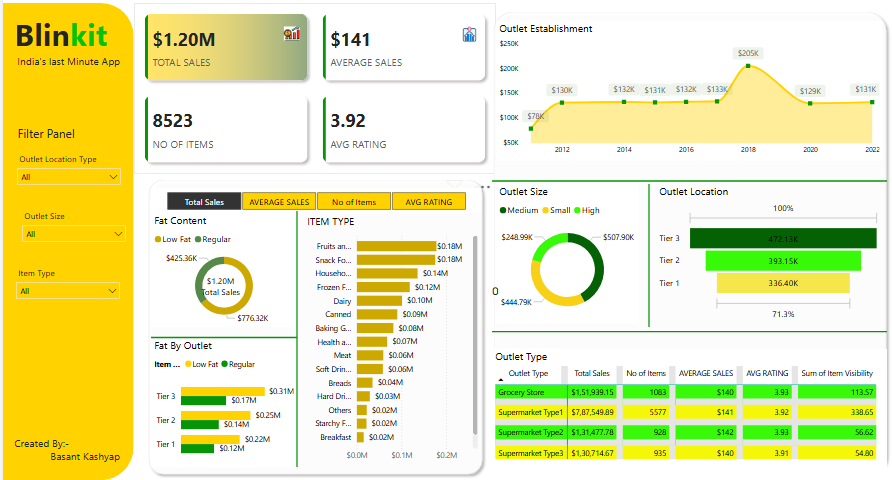

Layout of this report page (visuals, bound fields, positions):
{"tool":"powerbi","page":{"name":"Page 1","canvas":[1400,800],"ordinal":0},"visuals":[{"type":"shape","box":[0,23.9,205.8,751.4],"z":0},{"type":"textbox","box":[0,34.6,195.3,89.8],"z":1000},{"type":"textbox","box":[0,99.2,204.7,70.9],"z":2000},{"type":"cardVisual","fields":{"Data":["BlinkIT Grocery Data.Total Sales","BlinkIT Grocery Data.Average Sales","BlinkIT Grocery Data.No of Items","BlinkIT Grocery Data.Avg Rating"]},"box":[206.3,23.6,570.1,269.3],"z":3000},{"type":"shape","box":[220.5,292.9,543.3,481.9],"z":4000},{"type":"donutChart","title":"Fat Content","fields":{"Y":["BlinkIT Grocery Data.Total Sales"],"Category":["BlinkIT Grocery Data.Item Fat Content"]},"box":[233.1,354.3,229.9,179.5],"z":5000},{"type":"slicer","fields":{"Values":["Metrics.Metrics"]},"box":[233.1,315,519.7,39.4],"z":6000},{"type":"cardVisual","fields":{"Data":["BlinkIT Grocery Data.Total Sales"]},"box":[270.9,428.3,144.9,81.9],"z":7000},{"type":"clusteredBarChart","title":"Fat By Outlet","fields":{"Y":["BlinkIT Grocery Data.Total Sales"],"Category":["BlinkIT Grocery Data.Outlet Location Type"],"Series":["BlinkIT Grocery Data.Item Fat Content"]},"box":[233.1,551.2,229.9,203.1],"z":8000},{"type":"shape","box":[233.1,488.2,229.9,124.4],"z":9000},{"type":"shape","box":[411,351.2,103.9,403.1],"z":10000},{"type":"barChart","title":"ITEM TYPE","fields":{"Y":["BlinkIT Grocery Data.Total Sales"],"Category":["BlinkIT Grocery Data.Item Type"]},"box":[474,355.9,278.7,398.4],"z":11000},{"type":"shape","box":[763.8,28.3,636.2,746.5],"z":12000},{"type":"lineChart","title":"Outlet Establishment","fields":{"Y":["BlinkIT Grocery Data.Total Sales"],"Category":["BlinkIT Grocery Data.Outlet Establishment Year"]},"box":[776.4,52,609.4,220.5],"z":13000},{"type":"shape","box":[770.1,242.5,622,122.8],"z":14000},{"type":"donutChart","title":"Outlet Size","fields":{"Category":["BlinkIT Grocery Data.Outlet Size"],"Y":["BlinkIT Grocery Data.Total Sales"]},"box":[776.4,308.7,225,220],"z":15000},{"type":"shape","box":[902.4,308.7,229.9,225.2],"z":16000},{"type":"funnel","title":"Outlet Location","fields":{"Y":["Sum(BlinkIT Grocery Data.Sales)"],"Category":["BlinkIT Grocery Data.Outlet Location Type"]},"box":[1028.3,308.7,357.5,220.5],"z":17000},{"type":"shape","title":"O","box":[770.1,467.7,622,122.8],"z":18000},{"type":"pivotTable","title":"Outlet Type","fields":{"Rows":["BlinkIT Grocery Data.Outlet Type"],"Values":["BlinkIT Grocery Data.Total Sales","BlinkIT Grocery Data.No of Items","BlinkIT Grocery Data.AVERAGE SALES","BlinkIT Grocery Data.AVG RATING","Sum(BlinkIT Grocery Data.Item Visibility)"]},"box":[770.1,568.5,622,206.3],"z":19000},{"type":"slicer","fields":{"Values":["BlinkIT Grocery Data.Outlet Location Type"]},"box":[12.6,255.1,182.7,75.6],"z":20000},{"type":"slicer","fields":{"Values":["BlinkIT Grocery Data.Outlet Size"]},"box":[11,335.4,182.7,75.6],"z":21000},{"type":"slicer","fields":{"Values":["BlinkIT Grocery Data.Item Type"]},"box":[11,434.6,182.7,75.6],"z":22000},{"type":"textbox","box":[12.6,182.7,165.4,75.6],"z":23000},{"type":"slicer","fields":{"Values":["BlinkIT Grocery Data.Outlet Size"]},"box":[21,345.4,182.7,75.6],"z":24000},{"type":"textbox","box":[12.6,700.8,181.1,53.5],"z":25000}]}

Visuals, with their boxes on the page's 1400x800 design canvas (x1, y1, x2, y2). These are canvas units, not pixel positions in the 892x480 screenshot, which may show the page scaled, cropped or inside an application window:
shape: {"left": 0, "top": 24, "right": 206, "bottom": 775}
textbox: {"left": 0, "top": 35, "right": 195, "bottom": 124}
textbox: {"left": 0, "top": 99, "right": 205, "bottom": 170}
cardVisual - BlinkIT Grocery Data.Total Sales x BlinkIT Grocery Data.Average Sales: {"left": 206, "top": 24, "right": 776, "bottom": 293}
shape: {"left": 220, "top": 293, "right": 764, "bottom": 775}
"Fat Content" donutChart: {"left": 233, "top": 354, "right": 463, "bottom": 534}
slicer - Metrics.Metrics: {"left": 233, "top": 315, "right": 753, "bottom": 354}
cardVisual - BlinkIT Grocery Data.Total Sales: {"left": 271, "top": 428, "right": 416, "bottom": 510}
"Fat By Outlet" clusteredBarChart: {"left": 233, "top": 551, "right": 463, "bottom": 754}
shape: {"left": 233, "top": 488, "right": 463, "bottom": 613}
shape: {"left": 411, "top": 351, "right": 515, "bottom": 754}
"ITEM TYPE" barChart: {"left": 474, "top": 356, "right": 753, "bottom": 754}
shape: {"left": 764, "top": 28, "right": 1400, "bottom": 775}
"Outlet Establishment" lineChart: {"left": 776, "top": 52, "right": 1386, "bottom": 272}
shape: {"left": 770, "top": 242, "right": 1392, "bottom": 365}
"Outlet Size" donutChart: {"left": 776, "top": 309, "right": 1001, "bottom": 529}
shape: {"left": 902, "top": 309, "right": 1132, "bottom": 534}
"Outlet Location" funnel: {"left": 1028, "top": 309, "right": 1386, "bottom": 529}
"O" shape: {"left": 770, "top": 468, "right": 1392, "bottom": 590}
"Outlet Type" pivotTable: {"left": 770, "top": 568, "right": 1392, "bottom": 775}
slicer - BlinkIT Grocery Data.Outlet Location Type: {"left": 13, "top": 255, "right": 195, "bottom": 331}
slicer - BlinkIT Grocery Data.Outlet Size: {"left": 11, "top": 335, "right": 194, "bottom": 411}
slicer - BlinkIT Grocery Data.Item Type: {"left": 11, "top": 435, "right": 194, "bottom": 510}
textbox: {"left": 13, "top": 183, "right": 178, "bottom": 258}
slicer - BlinkIT Grocery Data.Outlet Size: {"left": 21, "top": 345, "right": 204, "bottom": 421}
textbox: {"left": 13, "top": 701, "right": 194, "bottom": 754}
